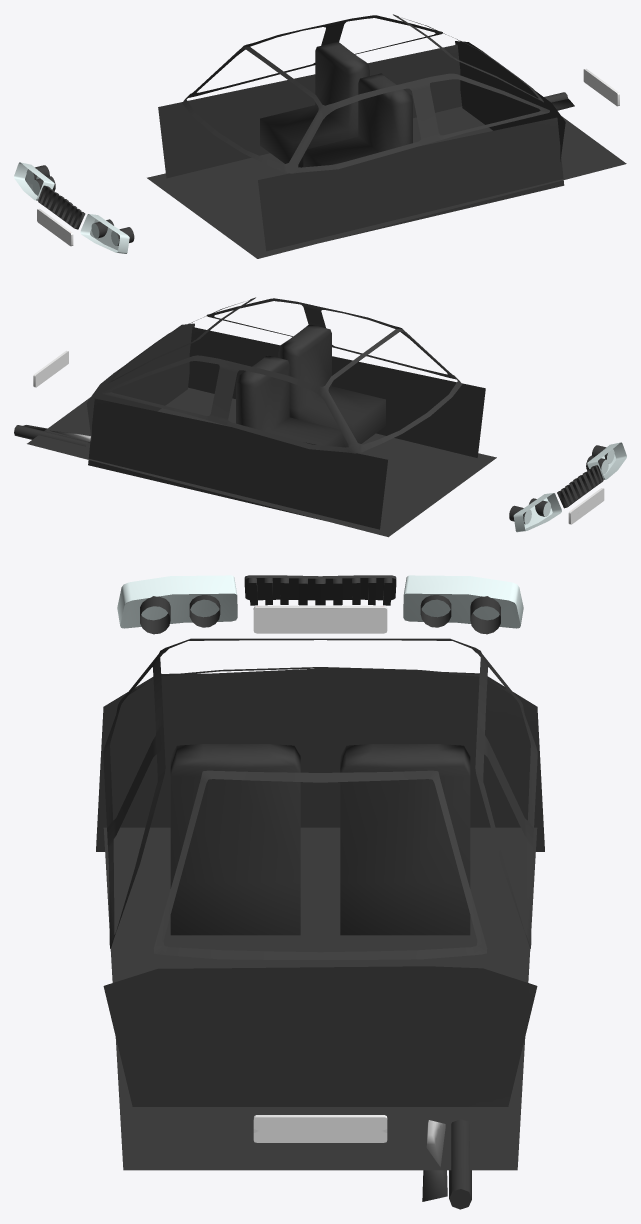
The model's file is sedan0_misc_d3.obj.
3 views of the same model, one above another, from view 1: azimuth 30°, elevation 25°; view 2: azimuth 150°, elevation 25°; view 3: azimuth 270°, elevation 25° (orthographic). The views are drawn at different scales.
Visible parts, largest first — view 1: Plane, Floor, Seat, Plastic, RearPanel, FrontLightInterior, RegistrationPlateRear, RegistrationPlateFront, FrontLightBulb1, FrontLightBulb0; view 2: Plane, Seat, Floor, Plastic, RearPanel, FrontLightInterior, ExhaustRight, RegistrationPlateFront, RegistrationPlateRear, FrontLightBulb1, FrontLightBulb0; view 3: RearPanel, Floor, Seat, FrontPanel, Plastic, FrontLightInterior, RegistrationPlateFront, RegistrationPlateRear, ExhaustRight, FrontLightBulb1, ExhaustLeft, FrontLightBulb0.
Boxes of the visible parts, bbox=[...] form: Plane: bbox=[158, 44, 564, 251]; Floor: bbox=[147, 106, 626, 258]; Seat: bbox=[260, 41, 412, 167]; Plastic: bbox=[38, 14, 549, 229]; RearPanel: bbox=[455, 41, 565, 161]; FrontLightInterior: bbox=[14, 162, 129, 253]; RegistrationPlateRear: bbox=[583, 68, 619, 106]; RegistrationPlateFront: bbox=[37, 209, 73, 246]; FrontLightBulb1: bbox=[26, 165, 134, 245]; FrontLightBulb0: bbox=[32, 176, 113, 238]; Plane: bbox=[88, 327, 485, 529]; Seat: bbox=[236, 324, 385, 447]; Floor: bbox=[27, 387, 496, 537]; Plastic: bbox=[102, 297, 603, 508]; RearPanel: bbox=[86, 323, 194, 441]; FrontLightInterior: bbox=[513, 442, 626, 532]; ExhaustRight: bbox=[14, 425, 89, 446]; RegistrationPlateFront: bbox=[568, 488, 604, 524]; RegistrationPlateRear: bbox=[33, 350, 68, 387]; FrontLightBulb1: bbox=[509, 445, 614, 524]; FrontLightBulb0: bbox=[529, 456, 608, 516]; RearPanel: bbox=[103, 966, 537, 1106]; Floor: bbox=[103, 827, 537, 1170]; Seat: bbox=[170, 744, 470, 935]; FrontPanel: bbox=[96, 668, 544, 851]; Plastic: bbox=[103, 575, 537, 959]; FrontLightInterior: bbox=[117, 575, 523, 628]; RegistrationPlateFront: bbox=[253, 605, 387, 633]; RegistrationPlateRear: bbox=[253, 1115, 387, 1142]; ExhaustRight: bbox=[449, 1119, 471, 1209]; FrontLightBulb1: bbox=[140, 596, 500, 634]; ExhaustLeft: bbox=[422, 1120, 447, 1201]; FrontLightBulb0: bbox=[189, 595, 451, 627].
Size of the model in its own units: 4.82 by 1.18 by 1.75.
1 material, 1 textured.
